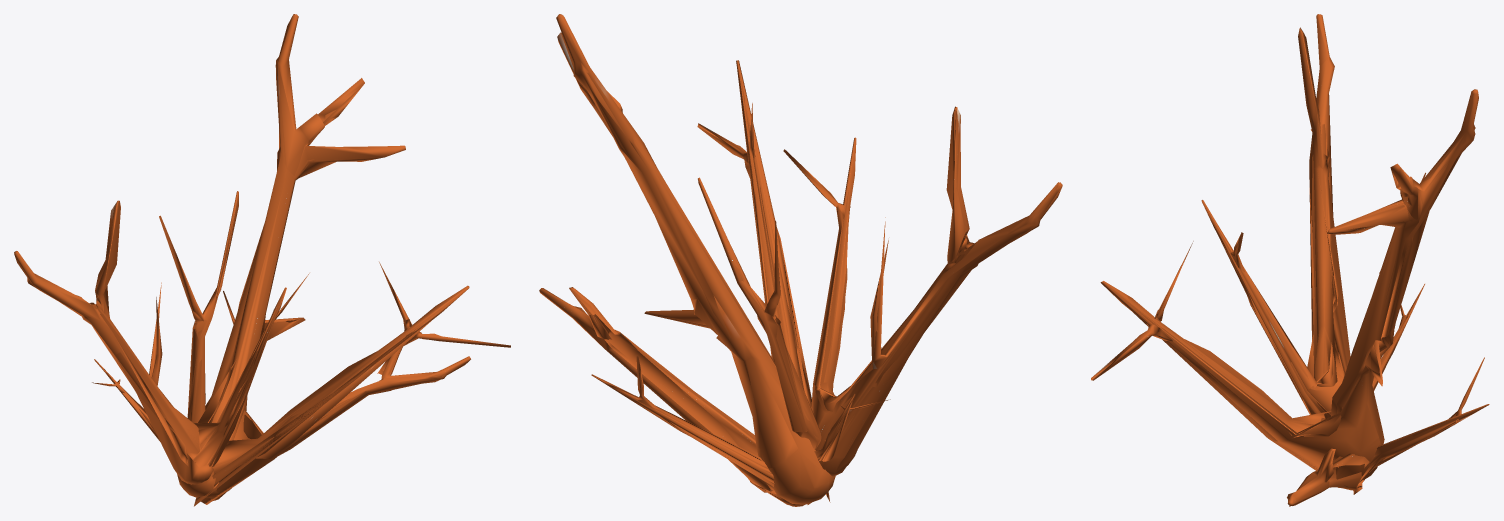
Rendered from acropora_cervicornis_staghorn_coral.glb.
3 renders of one model, left to right at view 1: azimuth 30°, elevation 25°; view 2: azimuth 150°, elevation 25°; view 3: azimuth 270°, elevation 25°, orthographic. The views are drawn at different scales.
Parts seen in each view (by area): view 1: Roundcube.001_0; view 2: Roundcube.001_0; view 3: Roundcube.001_0.
Part boxes in pixels (x1=…): Roundcube.001_0: x1=14, y1=14, x2=510, y2=506; Roundcube.001_0: x1=539, y1=14, x2=1062, y2=506; Roundcube.001_0: x1=1091, y1=14, x2=1489, y2=506.
Bounding box in the file's own units: 2.86 × 2.54 × 1.91.
1 material, 1 textured.
